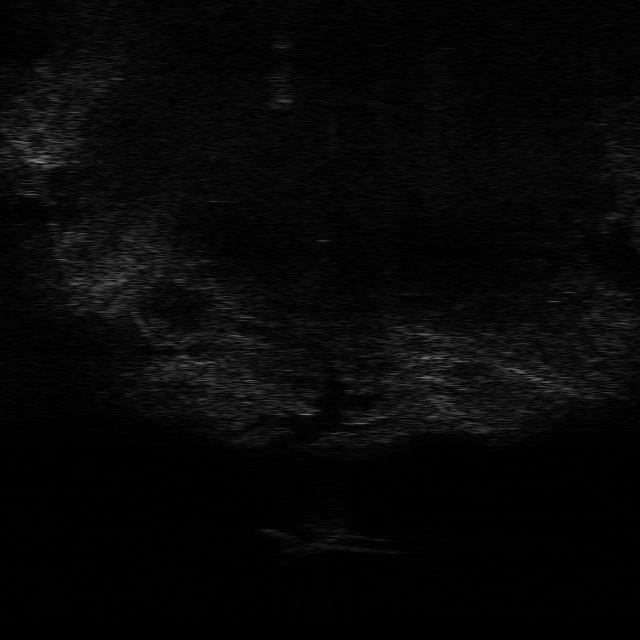plane: (258, 522, 400, 556)
